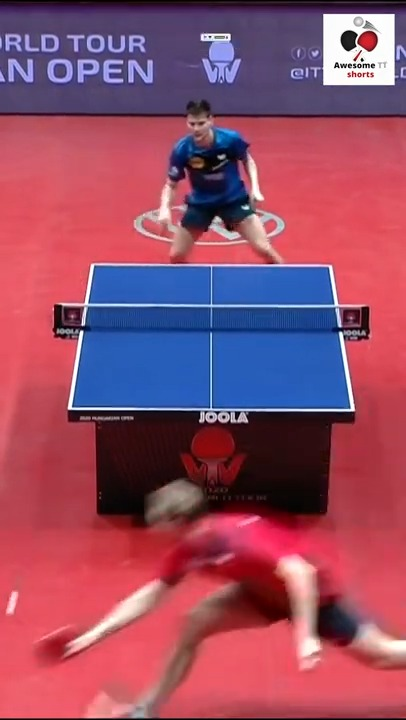Ball: (7, 592, 19, 617)
